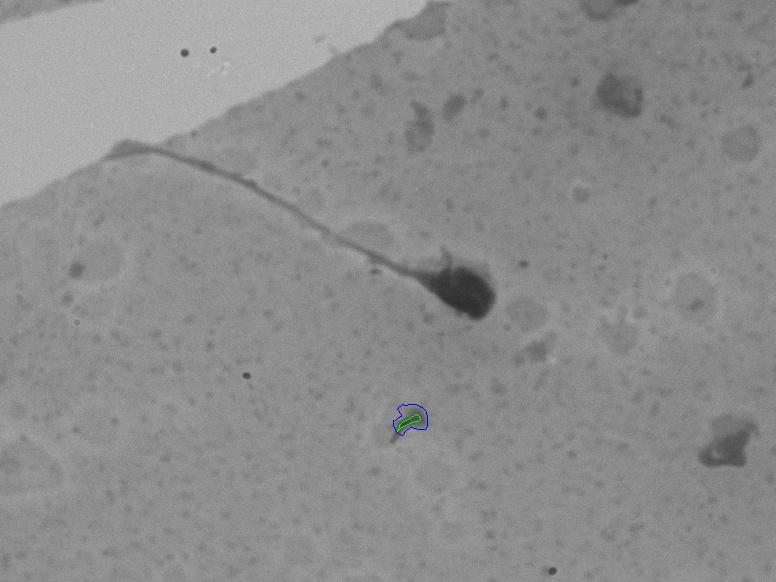Abnormal: (92, 86, 536, 328)
